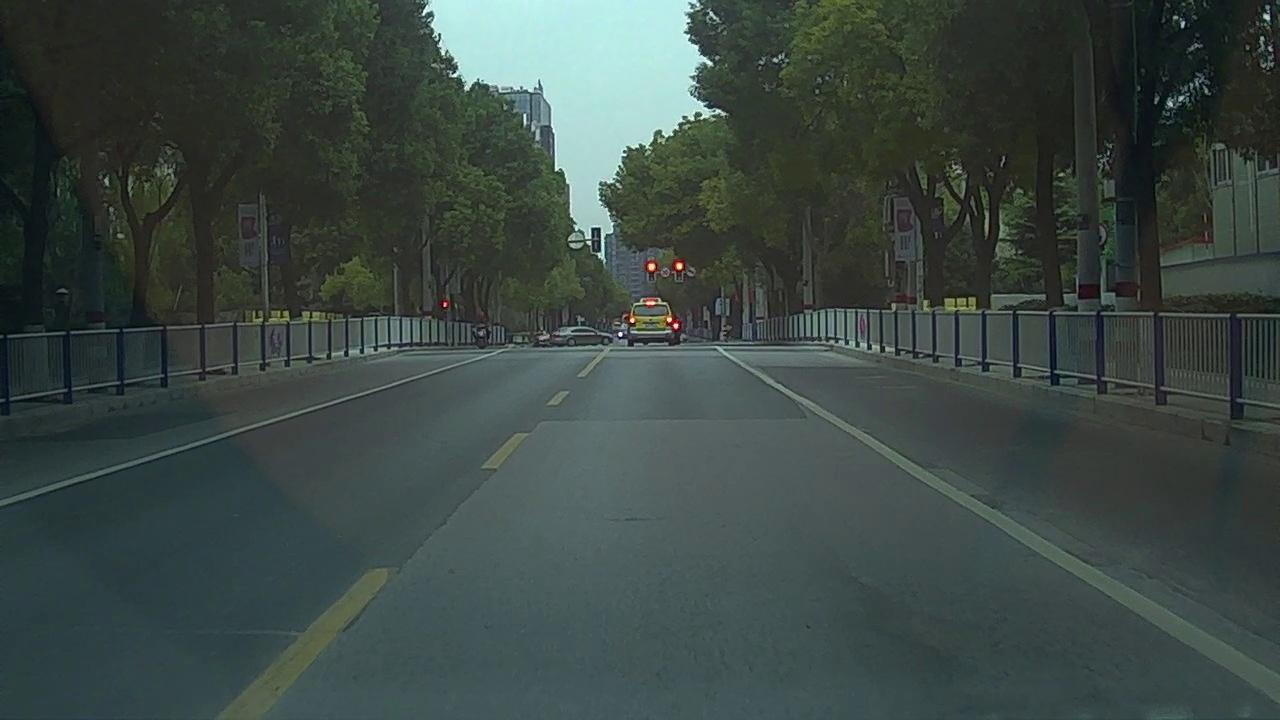traffic_light: (676, 262, 685, 283), (649, 262, 655, 283)
